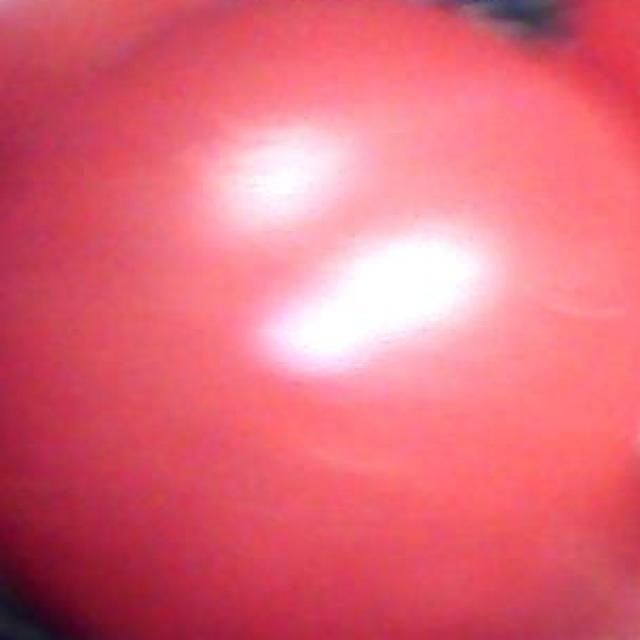Healthy: (15, 4, 640, 640)
